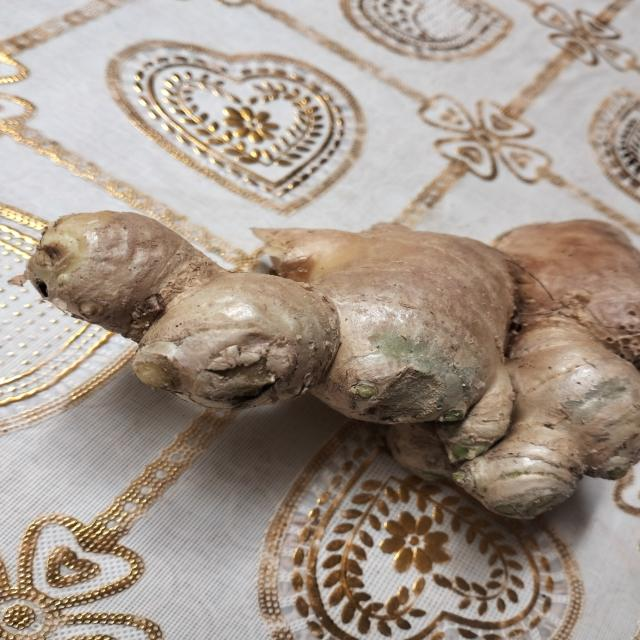ginger: (19, 195, 640, 521)
